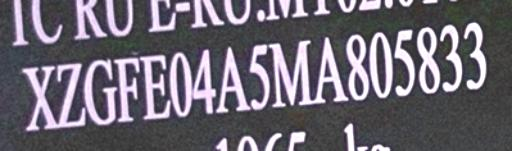letter: (268, 37, 316, 114), (16, 60, 58, 133), (214, 42, 250, 117), (314, 32, 348, 111), (138, 51, 172, 126), (460, 19, 492, 98), (84, 56, 120, 125), (414, 24, 442, 105), (343, 30, 373, 105), (113, 52, 143, 127), (56, 58, 86, 131), (367, 30, 395, 105), (390, 25, 416, 104), (248, 39, 276, 112), (439, 21, 463, 100), (168, 49, 194, 118), (192, 46, 216, 119)
